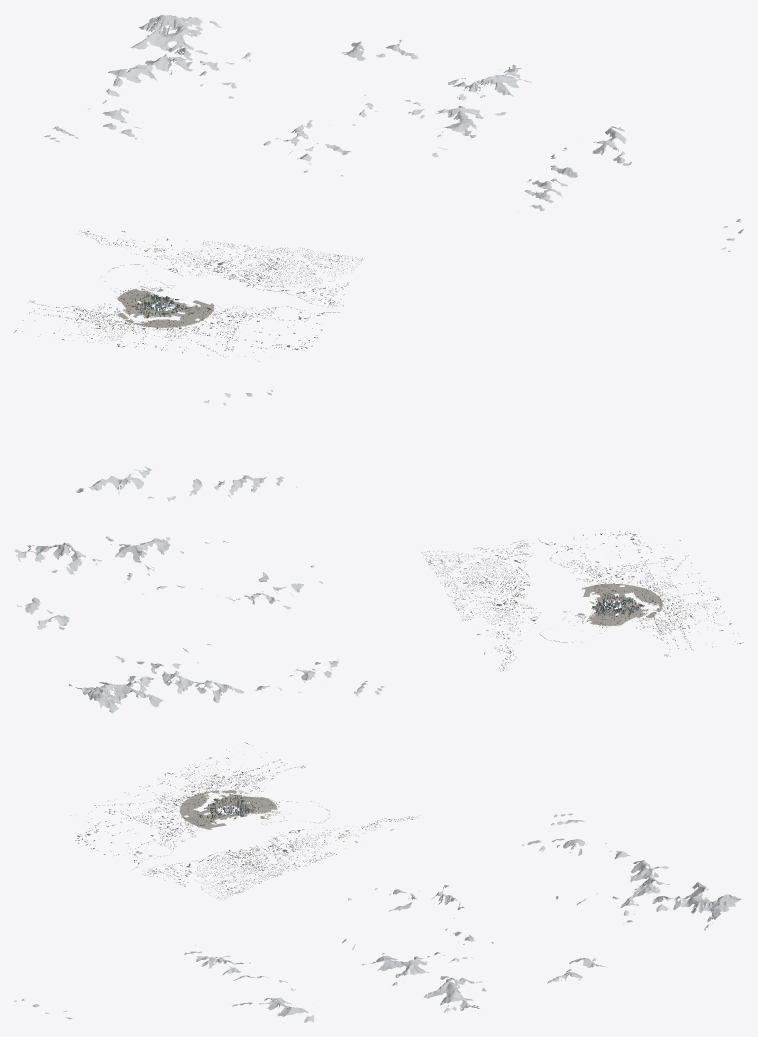
The model's file is stadt.glb.
3 views of the same model, one above another, from view 1: azimuth 30°, elevation 25°; view 2: azimuth 150°, elevation 25°; view 3: azimuth 270°, elevation 25° (orthographic). The views are drawn at different scales.
Visible parts, largest first — view 1: stadt; view 2: stadt; view 3: stadt.
Part boxes in pixels (x1,y1,x2,y2): stadt: (14, 14, 743, 361); stadt: (14, 390, 743, 713); stadt: (14, 742, 741, 1022).
Bounding box in the file's own units: 29299 × 1735 × 29895.
